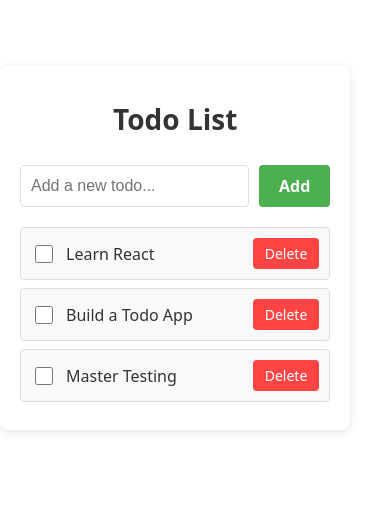
it: TodoList Component › Integration Tests › complete workflow with multiple operations
The image size is (368, 511).
Type "Task 1" into the field with test id "todo-input" at (134,186), box [20, 165, 249, 207]
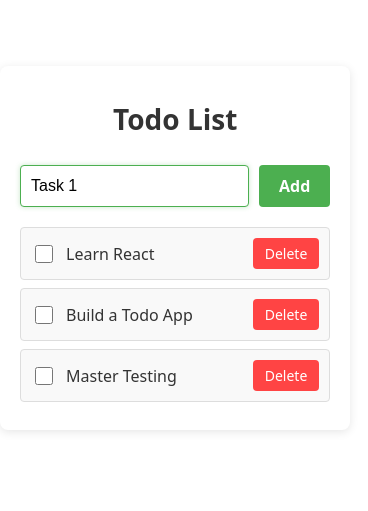
Click the button with test id "add-button" at (295,186), box [259, 165, 330, 207]
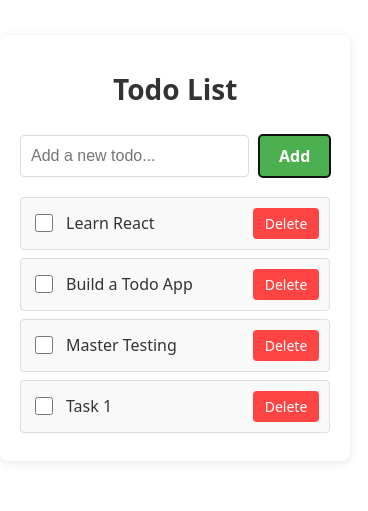
Type "Task 2" into the field with test id "todo-input" at (134,156), box [20, 135, 249, 177]
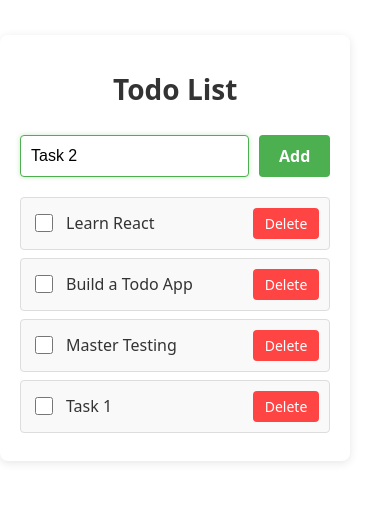
Click the button with test id "add-button" at (295,156), box [259, 135, 330, 177]
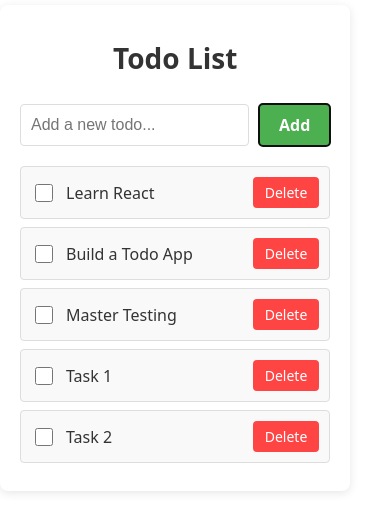
# Toggle first new task
Click the checkbox named "Mark \"Task 1\" as complete" at (44,376), box [35, 367, 53, 385]
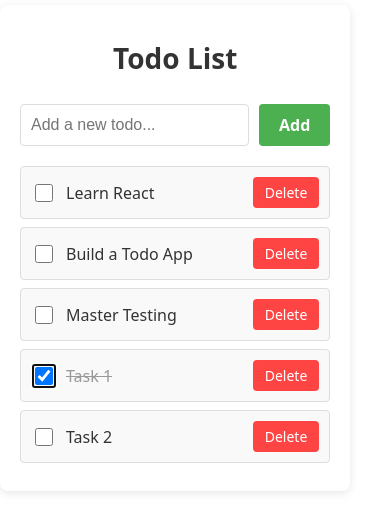
# Delete second initial task
Click the button "Delete" next to "Build a Todo App" at (286,254), box [253, 238, 319, 269]
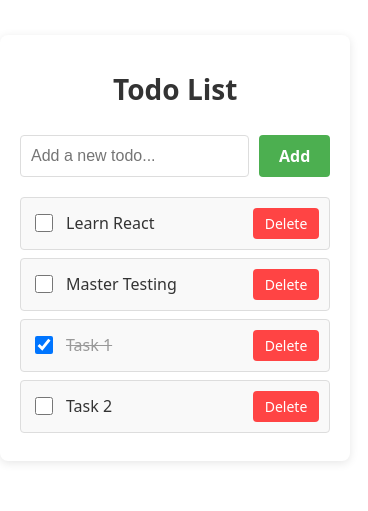
Expected: the text "Task 1" is shown, [66, 334, 112, 356]
Expected: the text "Task 2" is shown, [66, 395, 112, 417]
Expected: the text "Build a Todo App" is gone
